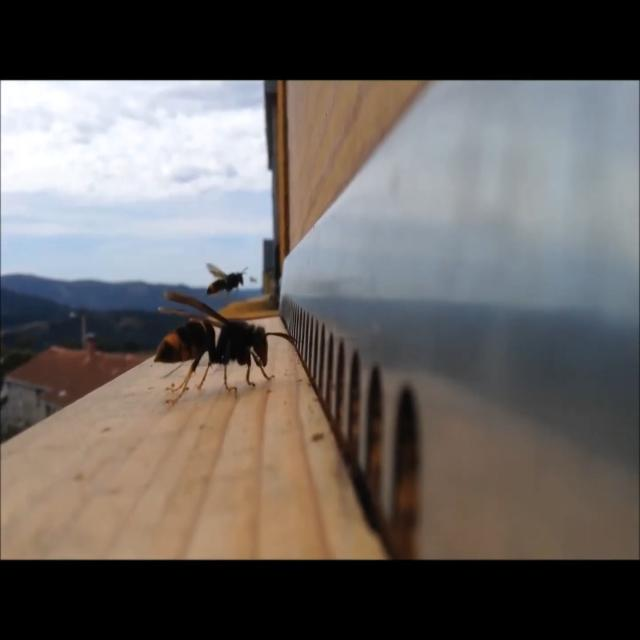Hornets: (154, 290, 299, 400), (205, 262, 248, 300)
